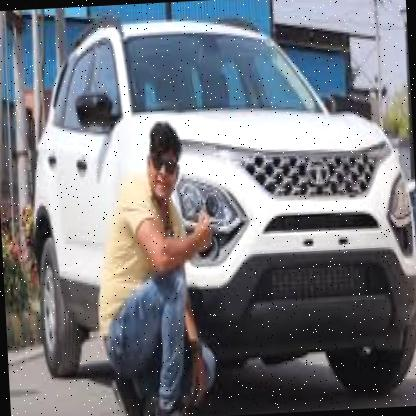car: (18, 2, 416, 413)
person: (79, 113, 223, 416)
